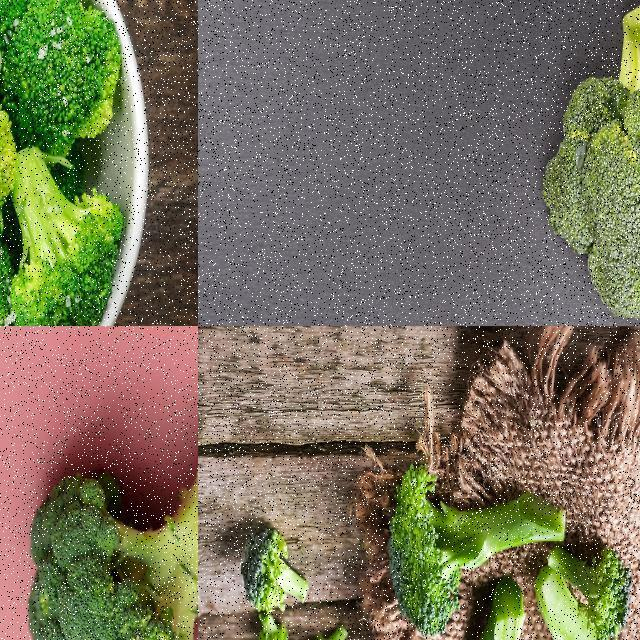broccoli: (17, 372, 197, 639), (380, 453, 566, 639), (539, 0, 639, 325), (4, 142, 126, 325), (0, 0, 119, 158), (533, 539, 639, 639), (411, 582, 542, 639), (237, 514, 309, 614)
